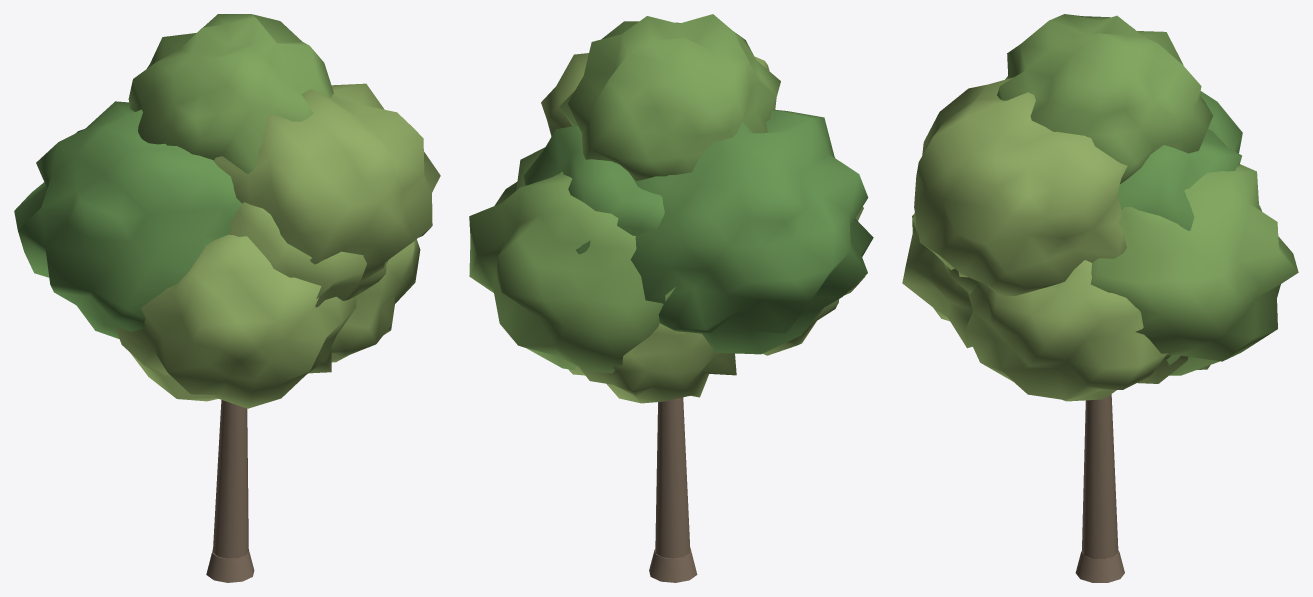
File: tree_round.glb
3 renders of one model, left to right at view 1: azimuth 30°, elevation 25°; view 2: azimuth 150°, elevation 25°; view 3: azimuth 270°, elevation 25°, orthographic.
Parts seen in each view (by area): view 1: Canopy, Trunk; view 2: Canopy, Trunk; view 3: Canopy, Trunk.
Part boxes in pixels (x1,y1,x2,y2): Canopy: [14, 14, 440, 408]; Trunk: [206, 400, 254, 582]; Canopy: [469, 14, 873, 403]; Trunk: [649, 397, 697, 582]; Canopy: [902, 14, 1298, 401]; Trunk: [1075, 394, 1124, 582].
Size of the model in its own units: 4.27 by 6.4 by 4.16.
